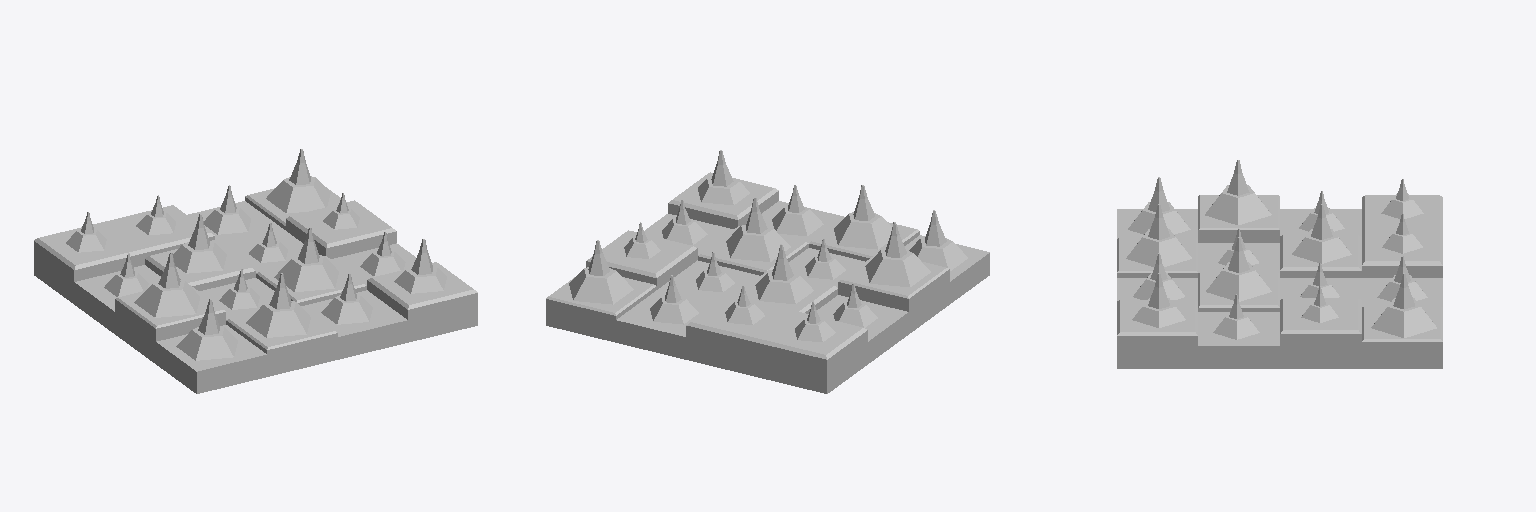
Rendered from trampa1.obj.
3 views of the same model, side by side, from view 1: azimuth 30°, elevation 25°; view 2: azimuth 150°, elevation 25°; view 3: azimuth 270°, elevation 25° (orthographic).
Parts seen in each view (by area): view 1: pCube1, pCone16, pCone14, pCone1, pCone11, pCone15, pCone9, pCone13, pCone12, pCone5, pCone2, pCone8 (+5 smaller); view 2: pCube1, pCone16, pCone1, pCone11, pCone14, pCone9, pCone15, pCone13, pCone12, pCone5, pCone2, pCone8 (+5 smaller); view 3: pCube1, pCone16, pCone1, pCone11, pCone14, pCone9, pCone13, pCone15, pCone2, pCone12, pCone7, pCone5 (+4 smaller).
Part boxes in pixels (x1,y1,x2,y2): pCube1: (34,187,477,393); pCone16: (134,252,199,317); pCone14: (246,273,310,337); pCone1: (266,149,330,213); pCone11: (274,228,338,291); pCone15: (176,299,237,360); pCone9: (173,214,226,273); pCone13: (394,239,446,293); pCone12: (321,273,372,324); pCone5: (204,185,250,234); pCone2: (360,232,405,276); pCone8: (104,253,148,296); pCube1: (546,172,989,393); pCone16: (865,222,930,286); pCone1: (569,240,633,304); pCone11: (726,197,790,261); pCone14: (834,185,891,249); pCone9: (755,244,813,303); pCone15: (909,210,967,270); pCone13: (698,150,749,204); pCone12: (772,185,823,235); pCone5: (650,275,698,324); pCone2: (662,200,707,244); pCone8: (833,284,877,327); pCube1: (1117,195,1442,368); pCone16: (1205,160,1271,224); pCone1: (1371,273,1436,337); pCone11: (1206,237,1271,301); pCone14: (1126,204,1191,266); pCone9: (1292,204,1351,263); pCone13: (1132,273,1185,327); pCone15: (1128,177,1190,234); pCone2: (1213,294,1259,339); pCone12: (1133,253,1184,299); pCone7: (1381,179,1423,218); pCone5: (1377,256,1427,301).
Size of the model in its own units: 3.96 by 1.19 by 3.97.